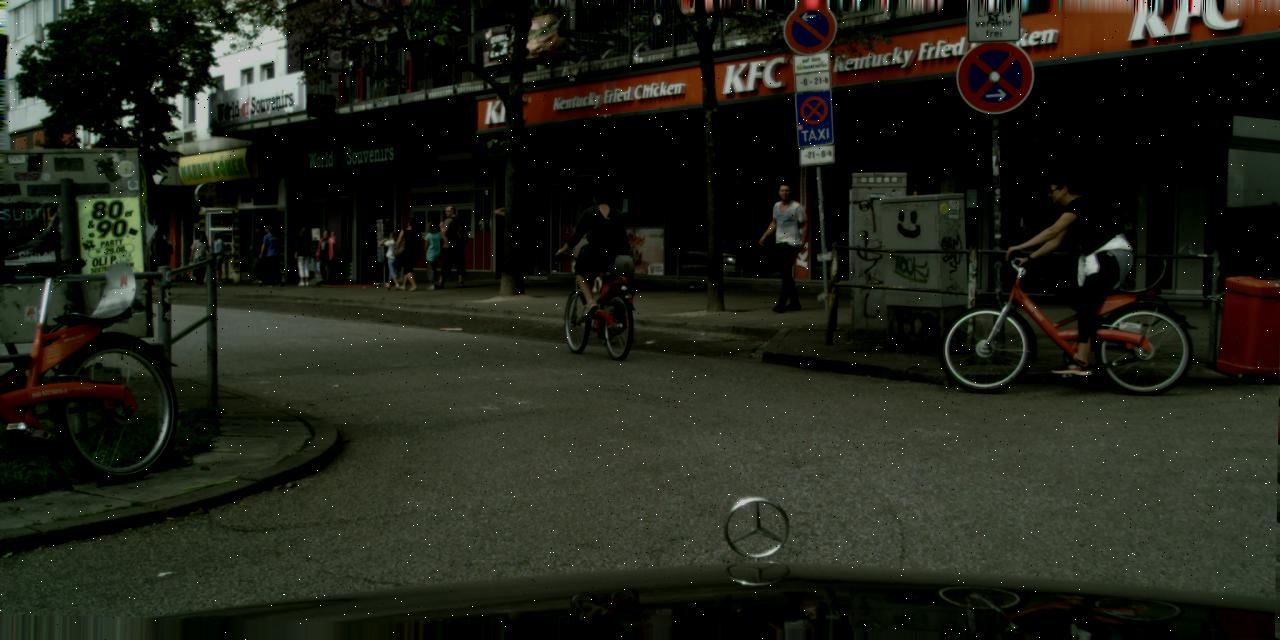ped: (1039, 167, 1113, 347), (575, 181, 631, 317), (760, 180, 813, 311), (496, 194, 531, 282), (433, 206, 466, 286), (394, 217, 424, 289), (418, 220, 446, 289), (253, 224, 278, 284), (260, 224, 284, 286), (292, 226, 316, 285), (380, 230, 404, 288), (314, 229, 336, 284), (247, 228, 269, 283), (205, 231, 226, 283), (189, 232, 209, 282), (162, 233, 174, 254), (150, 236, 154, 270)
